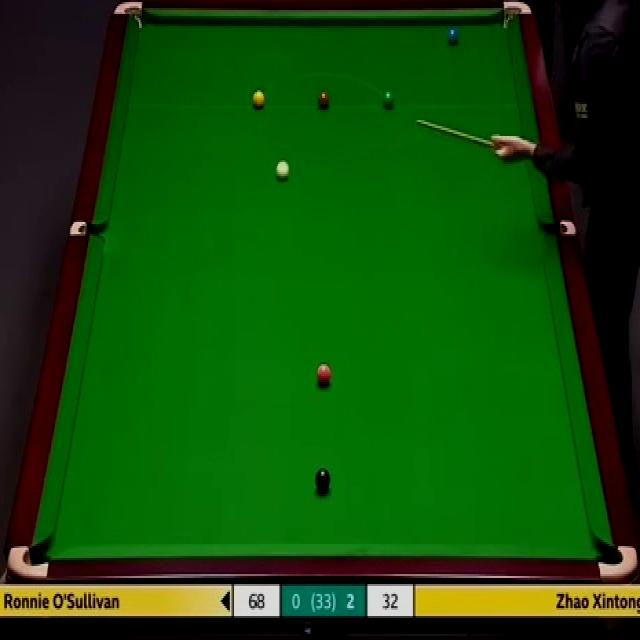black-ball: (315, 467, 331, 493)
blue-ball: (446, 27, 460, 46)
brown-ball: (317, 92, 330, 109)
green-ball: (382, 88, 396, 112)
pink-ball: (316, 362, 332, 389)
white-ball: (275, 158, 289, 184)
yellow-ball: (252, 89, 266, 110)
